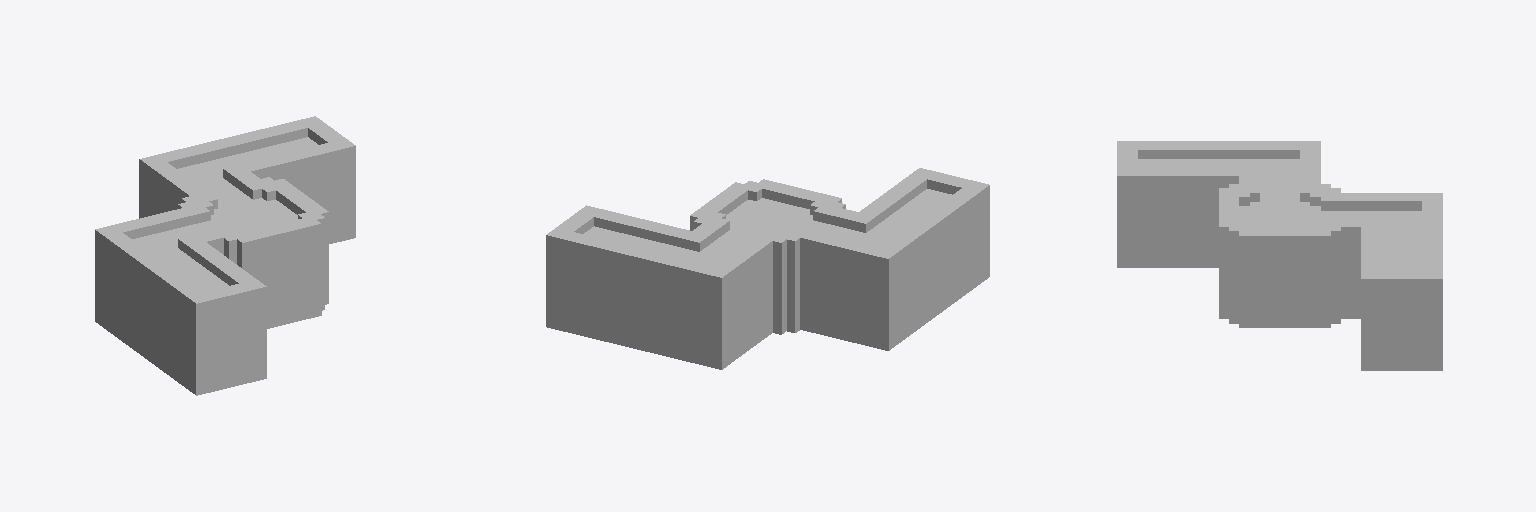
File: castle_test.obj
The picture shows the model from 3 angles: view 1: azimuth 30°, elevation 25°; view 2: azimuth 150°, elevation 25°; view 3: azimuth 270°, elevation 25°; orthographic projection.
Parts seen in each view (by area): view 1: Cube; view 2: Cube; view 3: Cube.
Part boxes in pixels (bbox=[...]): Cube: bbox=[95, 116, 355, 395]; Cube: bbox=[546, 168, 989, 369]; Cube: bbox=[1117, 141, 1442, 370].
Size of the model in its own units: 16 by 5 by 16.